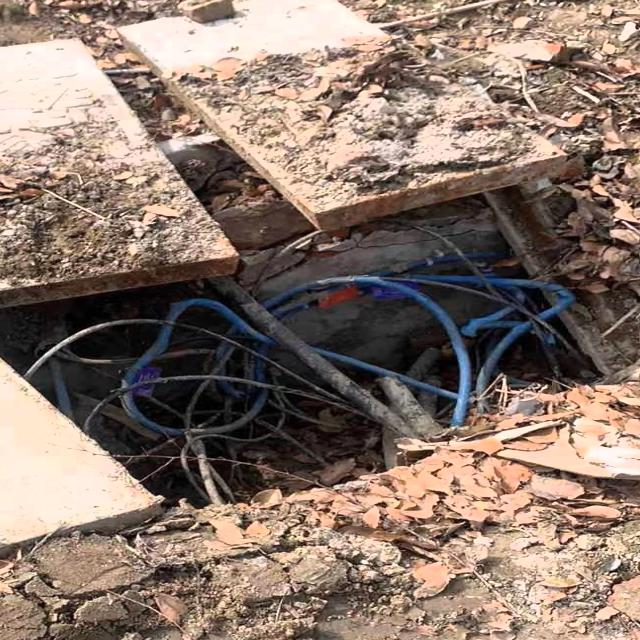uncovered: (0, 0, 640, 603)
